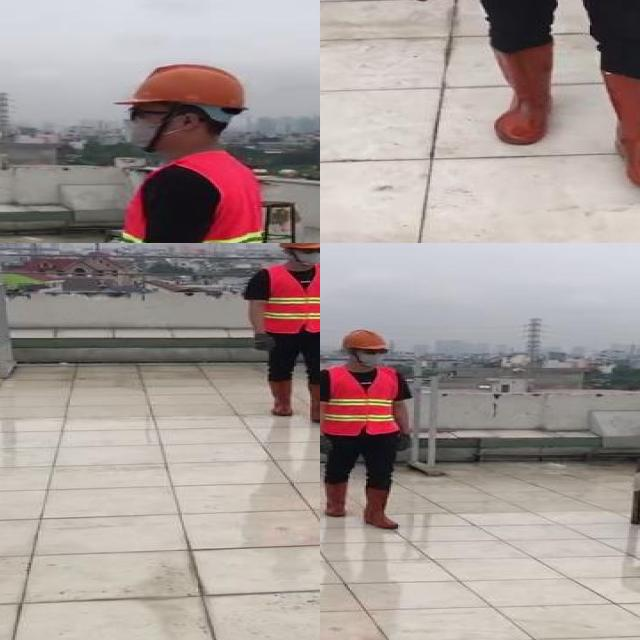boots: (489, 43, 558, 146), (604, 67, 640, 191), (364, 486, 398, 529), (266, 378, 296, 415), (322, 481, 348, 517), (306, 382, 320, 422)
face_mask: (115, 101, 188, 150), (353, 346, 388, 366), (295, 245, 320, 264)
glasses: (360, 346, 390, 357), (299, 245, 320, 255)
hand_glove: (255, 334, 276, 352), (393, 433, 414, 450), (320, 437, 332, 454)
head_helmet: (388, 0, 640, 190), (126, 59, 248, 112), (339, 328, 389, 351), (275, 243, 320, 249)
person: (64, 55, 320, 243), (320, 328, 416, 538), (241, 243, 320, 427)
vest: (105, 156, 259, 243), (325, 364, 398, 434), (265, 265, 320, 333)
